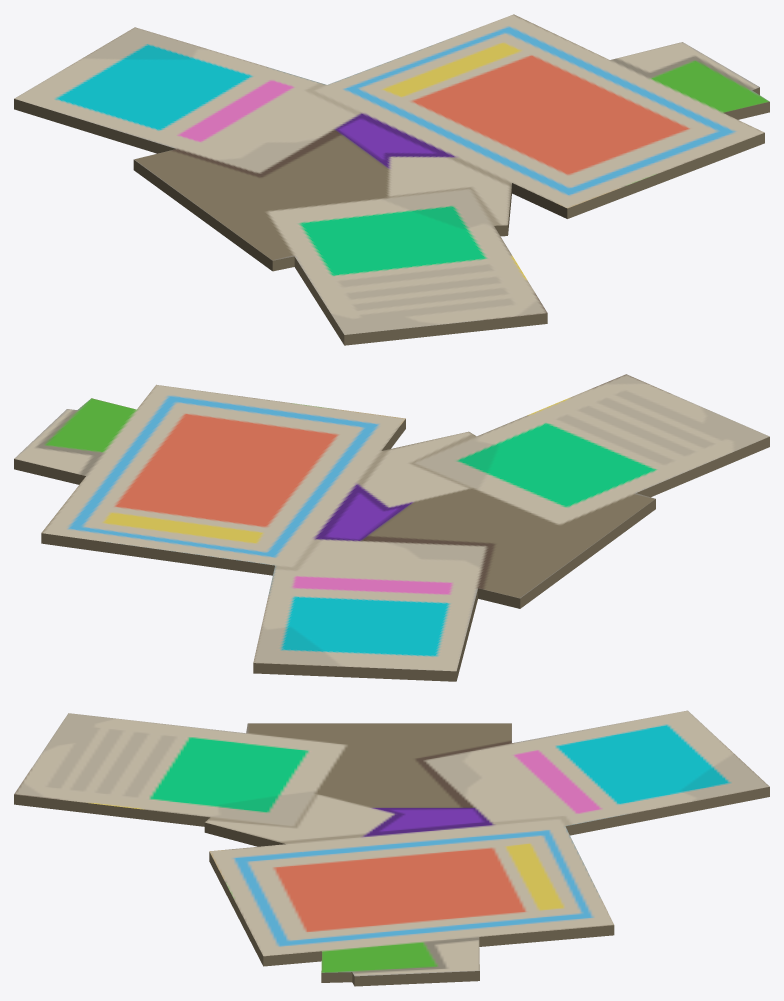
File: SM_Prop_Posters_02.fbx
The picture shows the model from 3 angles, top to bottom: view 1: azimuth 30°, elevation 25°; view 2: azimuth 150°, elevation 25°; view 3: azimuth 270°, elevation 25°; orthographic projection. The views are drawn at different scales.
Visible parts, largest first — view 1: SM_Prop_Posters_02; view 2: SM_Prop_Posters_02; view 3: SM_Prop_Posters_02.
Part boxes in pixels (left/top/right/bottom): SM_Prop_Posters_02: left=14, top=14, right=769, bottom=345; SM_Prop_Posters_02: left=14, top=374, right=769, bottom=681; SM_Prop_Posters_02: left=14, top=710, right=769, bottom=986.
Bounding box in the file's own units: 9291 × 165 × 11163.
